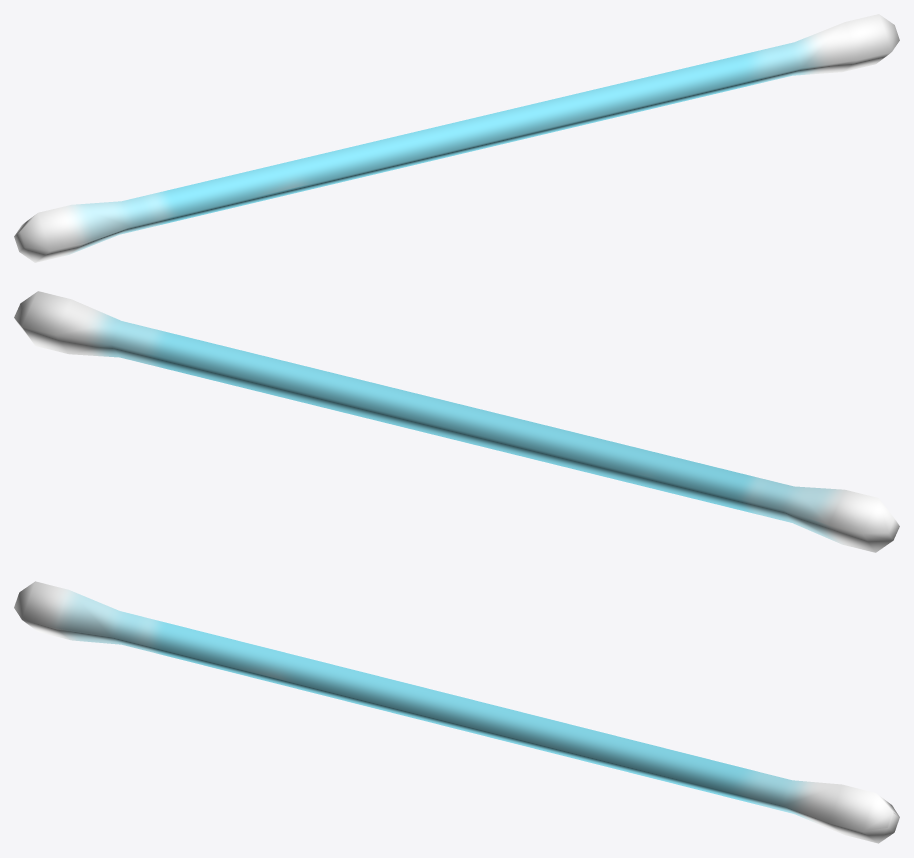
The model's file is CottonSwab.fbx.
3 views of the same model, one above another, from view 1: azimuth 30°, elevation 25°; view 2: azimuth 150°, elevation 25°; view 3: azimuth 330°, elevation 25° (orthographic).
Visible parts, largest first — view 1: cotton_swab, cotton_swab_tip; view 2: cotton_swab, cotton_swab_tip; view 3: cotton_swab, cotton_swab_tip.
Boxes of the visible parts, bbox=[...] form: cotton_swab: bbox=[120, 14, 899, 234]; cotton_swab_tip: bbox=[14, 201, 129, 262]; cotton_swab: bbox=[14, 291, 793, 522]; cotton_swab_tip: bbox=[783, 486, 899, 552]; cotton_swab: bbox=[111, 611, 899, 843]; cotton_swab_tip: bbox=[14, 581, 120, 644].
Bounding box in the file's own units: 5.2 × 0.3118 × 0.3424.
